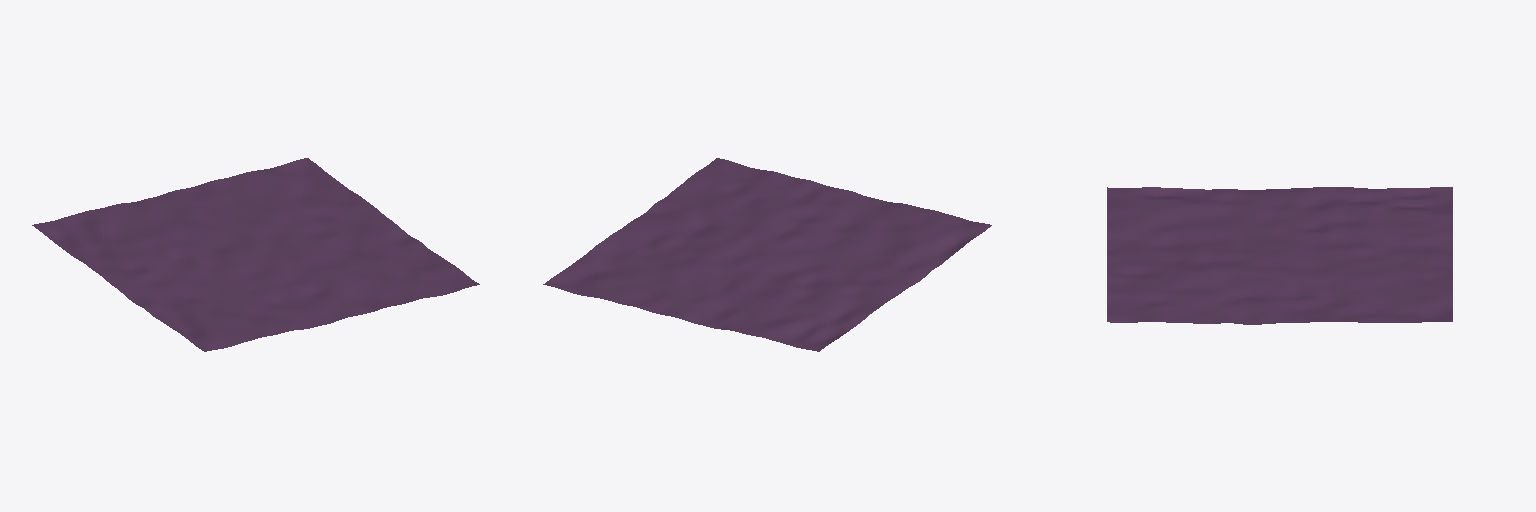
File: terrain.obj
The picture shows the model from 3 angles: view 1: azimuth 30°, elevation 25°; view 2: azimuth 150°, elevation 25°; view 3: azimuth 270°, elevation 25°; orthographic projection.
Visible parts, largest first — view 1: terrain; view 2: terrain; view 3: terrain.
Part boxes in pixels (bbox=[...]): terrain: bbox=[32, 158, 479, 351]; terrain: bbox=[543, 158, 991, 351]; terrain: bbox=[1107, 187, 1452, 324].
Size of the model in its own units: 206 by 3.1 by 224.